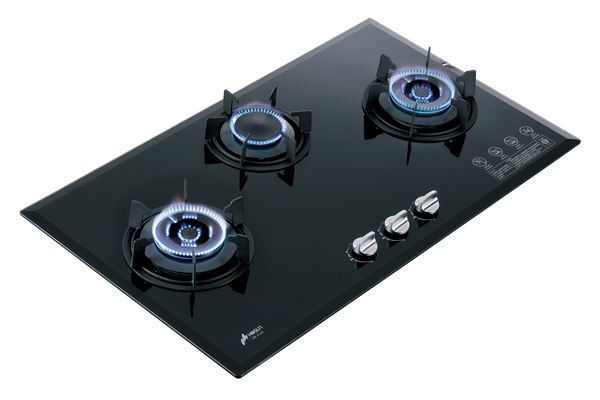gasoven: (20, 14, 586, 382)
